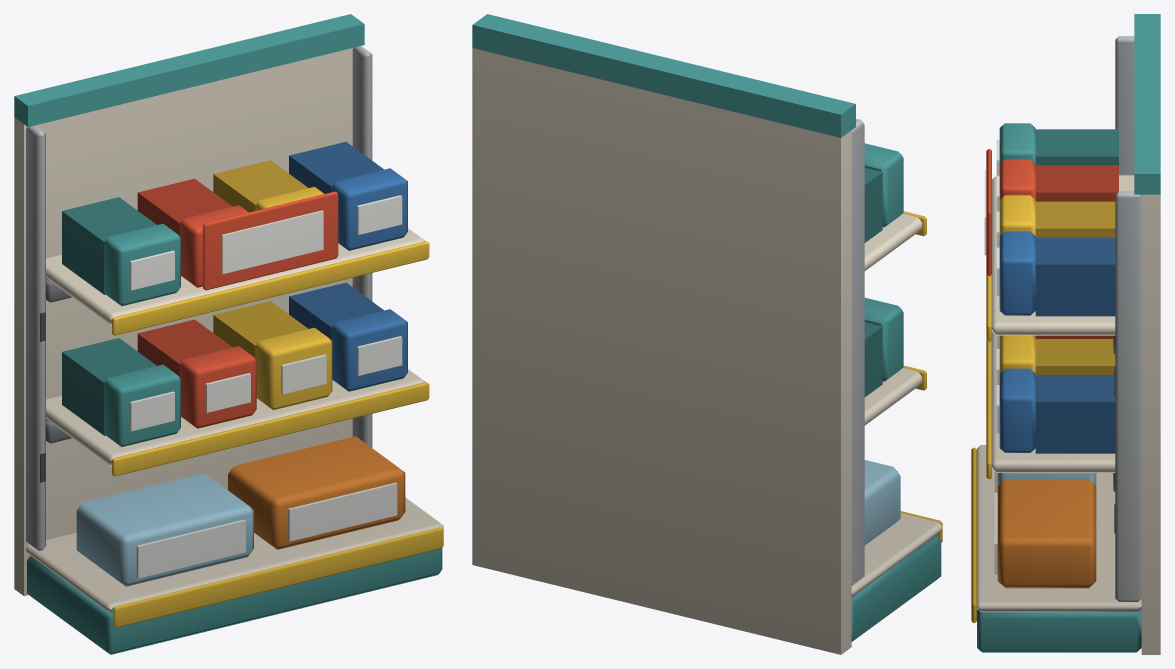
The model's file is Gondola_EndCap_Low_10_Stocked.glb.
3 renders of one model, left to right at view 1: azimuth 30°, elevation 25°; view 2: azimuth 150°, elevation 25°; view 3: azimuth 270°, elevation 25°, orthographic. The views are drawn at different scales.
Visible parts, largest first — view 1: SM_Gondola_EndCap_Low_10_Stocked; view 2: SM_Gondola_EndCap_Low_10_Stocked; view 3: SM_Gondola_EndCap_Low_10_Stocked.
Boxes of the visible parts, x1,y1,x2,y2 form: SM_Gondola_EndCap_Low_10_Stocked: (14, 14, 443, 654); SM_Gondola_EndCap_Low_10_Stocked: (472, 14, 942, 654); SM_Gondola_EndCap_Low_10_Stocked: (971, 14, 1160, 654).
Size of the model in its own units: 1 by 1.4 by 0.5.
1 material, 1 textured.
